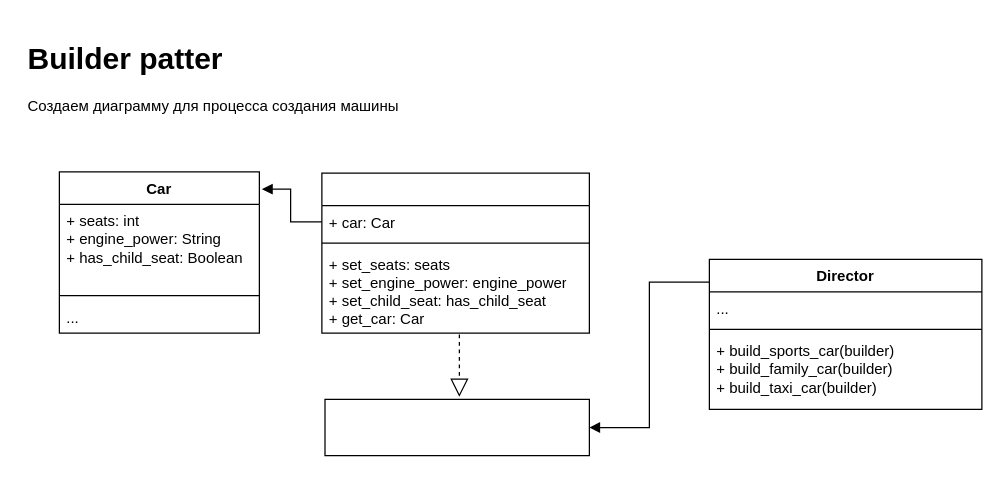
This 1004x478 diagram has some shape labels left out. The shapes that lost their labels are listed below. From the top down, each one's box as (x1, y1, x2, y2) in pixels, then its label:
(321, 172, 589, 333): ConcreteCarBuilder
(324, 398, 589, 456): «interface» CarBuilder
